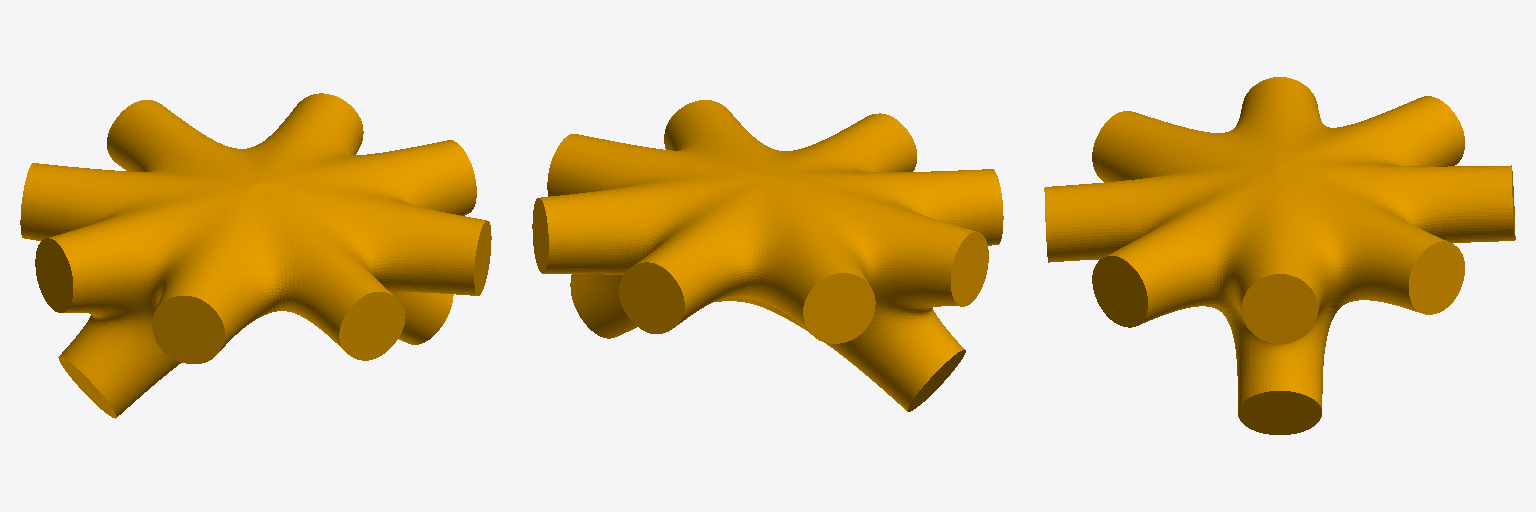
The robot description file, URDF, robot "object":
<robot name="object">
  <link name="object">
    <visual>
      <origin xyz="0 0 0"/>
      <geometry>
        <mesh filename="visual.obj" scale="1 1 1"/>
      </geometry>
    </visual>
    <collision>
      <origin xyz="0 0 0"/>
      <geometry>
        <mesh filename="visual.obj" scale="1 1 1"/>
      </geometry>
    </collision>
    <inertial>
      <mass value="0.05"/>
      <inertia ixx="0.00011290875220859515" iyy="0.00016906192562427027" izz="0.00024064223499312815" ixy="3.8896564092169246e-09" ixz="-1.7009578228508635e-07" iyz="-4.15471797321153e-06"/>
    </inertial>
  </link>
</robot>

--- What the picture shows (computed from the rendered views, not written in the file) ---
3 views of the same robot in one strip: view 1: azimuth 30°, elevation 25°; view 2: azimuth 150°, elevation 25°; view 3: azimuth 270°, elevation 25° (orthographic).
Model object with 1 links and 0 joints (none), rooted at object, posed every joint at zero.
Visible links, largest first — view 1: object; view 2: object; view 3: object.
Link boxes in pixels (left/top/right/bottom): object: left=20, top=93, right=491, bottom=418; object: left=532, top=100, right=1003, bottom=411; object: left=1044, top=77, right=1515, bottom=434.
Size in the robot's own frame: 0.2323 by 0.2333 by 0.107 metres.
Meshes: 1 distinct files referenced, 1 mesh visuals loaded (1 OBJ).
